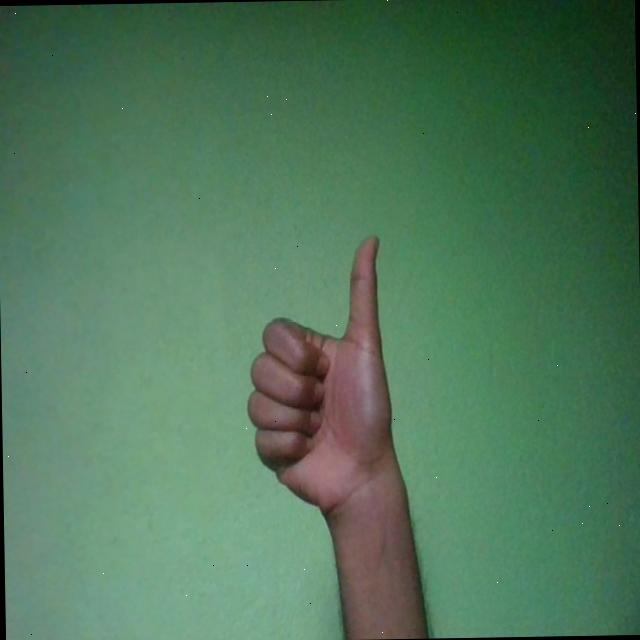Good Job: (244, 232, 392, 518)
